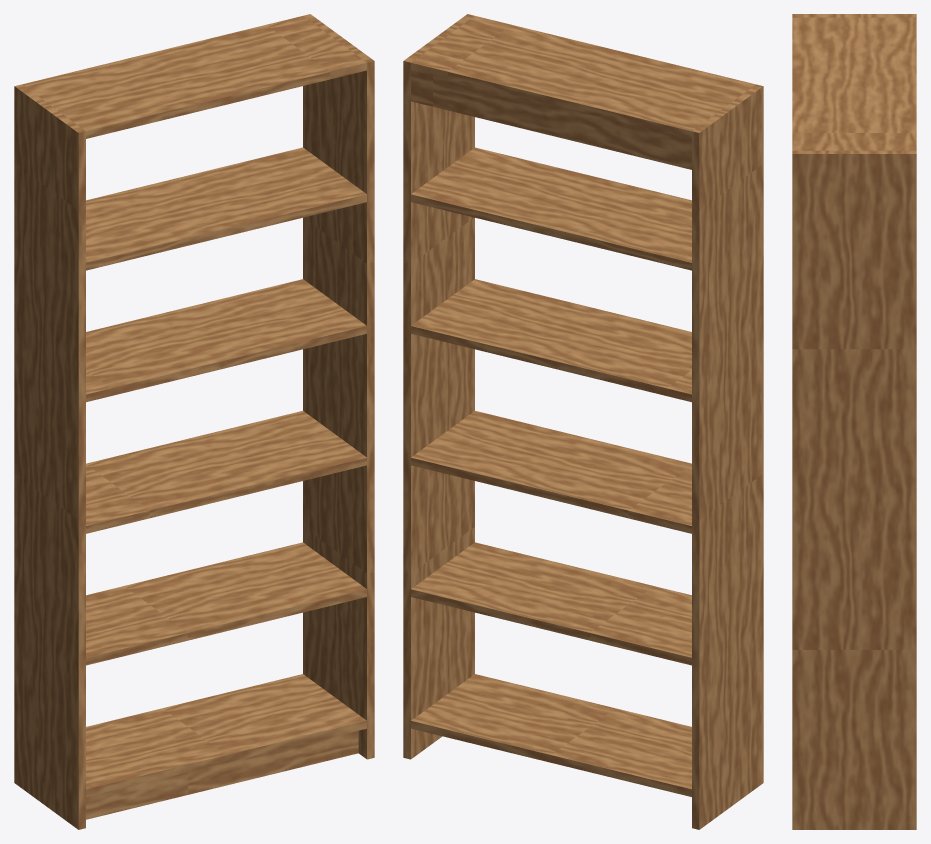
3 views of the same model, side by side, from view 1: azimuth 30°, elevation 25°; view 2: azimuth 150°, elevation 25°; view 3: azimuth 270°, elevation 25° (orthographic). The views are drawn at different scales.
Parts seen in each view (by area): view 1: Bookshelf, oak; view 2: Bookshelf, oak; view 3: Bookshelf, oak.
Boxes of the visible parts, left/top/right/bottom form: Bookshelf, oak: left=14, top=14, right=374, bottom=829; Bookshelf, oak: left=403, top=14, right=763, bottom=829; Bookshelf, oak: left=792, top=14, right=916, bottom=829.
Bounding box in the file's own units: 0.8 × 1.8 × 0.3.
Materials: 1 (1 with a texture image).
